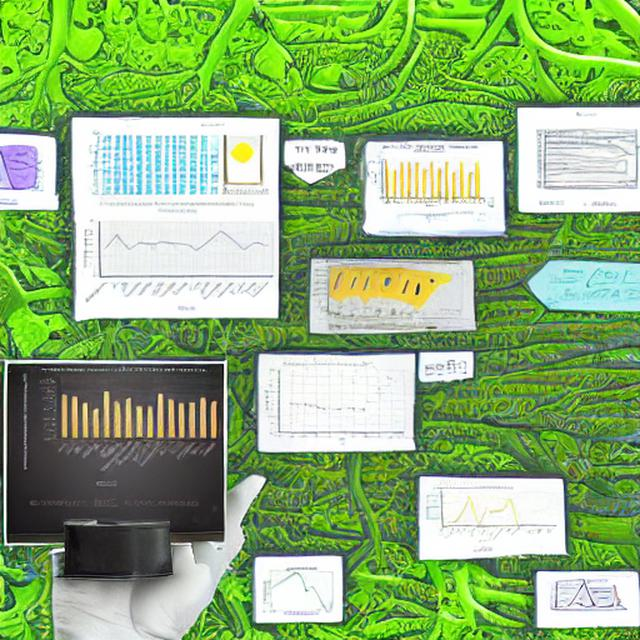Graph: (19, 364, 224, 490), (77, 196, 276, 314), (260, 357, 412, 449), (371, 144, 483, 210), (423, 484, 524, 544), (261, 561, 340, 620)
